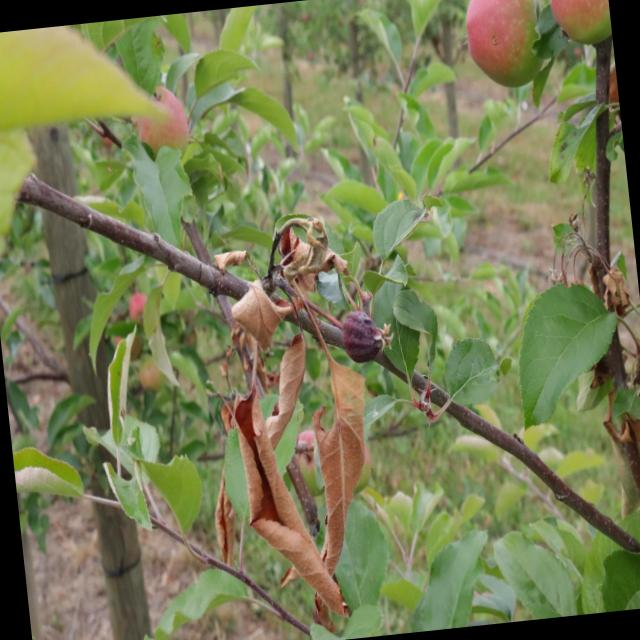-FireBlight-: (213, 228, 384, 628)
